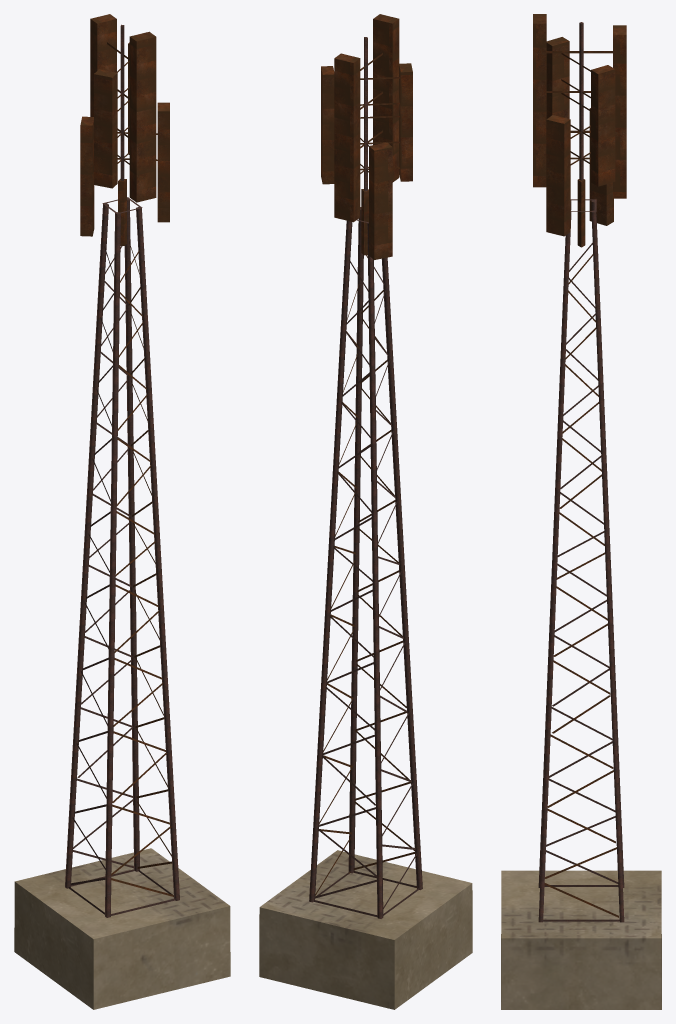
The model's file is SM_Cell_antenne.FBX.
3 views of the same model, side by side, from view 1: azimuth 30°, elevation 25°; view 2: azimuth 150°, elevation 25°; view 3: azimuth 270°, elevation 25° (orthographic). The views are drawn at different scales.
Parts seen in each view (by area): view 1: SM_Cell_antenne; view 2: SM_Cell_antenne; view 3: SM_Cell_antenne.
Boxes of the visible parts, <box> form: SM_Cell_antenne: <box>14,14,230,1009</box>; SM_Cell_antenne: <box>259,14,472,1009</box>; SM_Cell_antenne: <box>501,14,661,1009</box>.
Bounding box in the file's own units: 197 × 197 × 1292.
